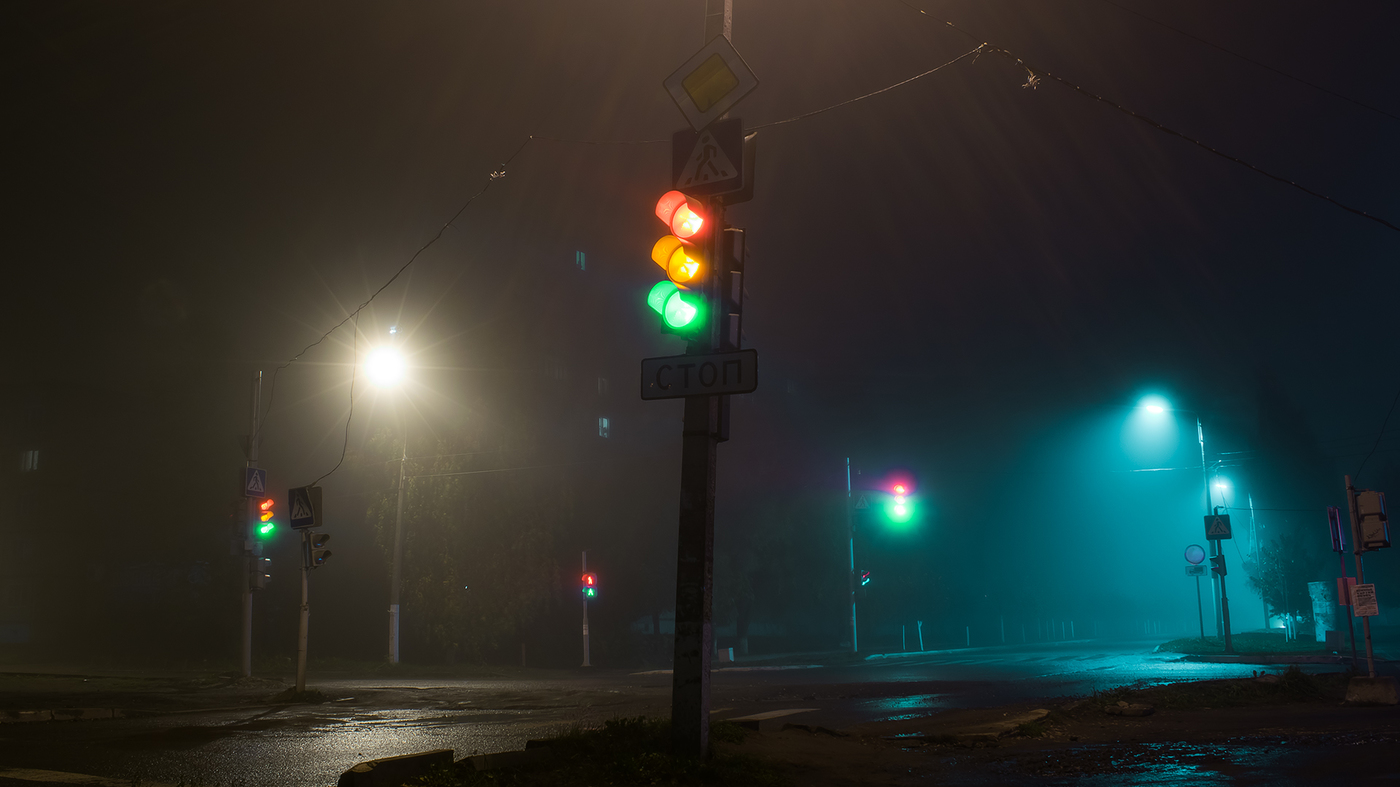tl: (650, 180, 730, 351), (255, 495, 277, 547)
